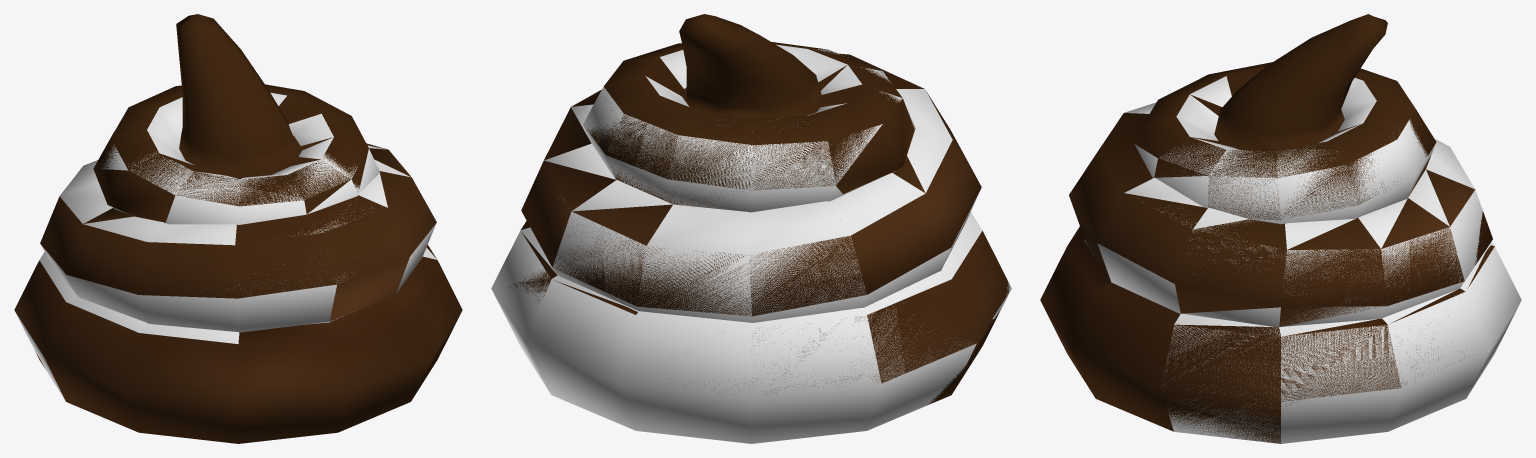
File: poop.fbx
The picture shows the model from 3 angles, left to right: view 1: azimuth 30°, elevation 25°; view 2: azimuth 150°, elevation 25°; view 3: azimuth 270°, elevation 25°; orthographic projection. The views are drawn at different scales.
Visible parts, largest first — view 1: Cube, Torus.001, Torus.002, Torus.005; view 2: Cube, Torus.005, Torus.001, Torus.002; view 3: Cube, Torus.005, Torus.002, Torus.001.
Boxes of the visible parts, x1=… form: Cube: x1=14, y1=14, x2=462, y2=443; Torus.001: x1=41, y1=145, x2=436, y2=332; Torus.002: x1=102, y1=92, x2=379, y2=224; Torus.005: x1=15, y1=247, x2=436, y2=400; Cube: x1=509, y1=14, x2=1009, y2=404; Torus.005: x1=491, y1=212, x2=1011, y2=443; Torus.001: x1=544, y1=89, x2=980, y2=322; Torus.002: x1=583, y1=44, x2=915, y2=212; Cube: x1=1040, y1=14, x2=1494, y2=443; Torus.005: x1=1085, y1=241, x2=1521, y2=443; Torus.002: x1=1134, y1=76, x2=1436, y2=224; Torus.001: x1=1097, y1=102, x2=1482, y2=327.
Size of the model in its own units: 296 by 242 by 296.
